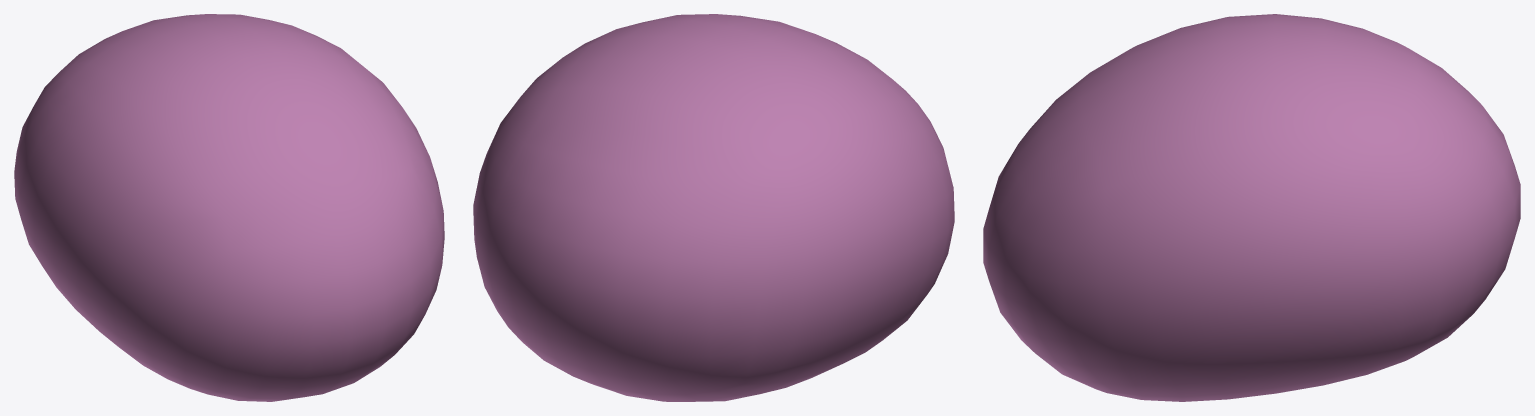
3 renders of one model, left to right at view 1: azimuth 30°, elevation 25°; view 2: azimuth 150°, elevation 25°; view 3: azimuth 270°, elevation 25°, orthographic. The views are drawn at different scales.
Visible parts, largest first — view 1: 左侧滑车神经核; view 2: 左侧滑车神经核; view 3: 左侧滑车神经核.
Boxes of the visible parts, box(x1,y1,x2,y2) form: 左侧滑车神经核: box(14, 14, 444, 401); 左侧滑车神经核: box(473, 14, 954, 401); 左侧滑车神经核: box(983, 14, 1520, 401).
Bounding box in the file's own units: 0.00398 × 0.00334 × 0.00482.
